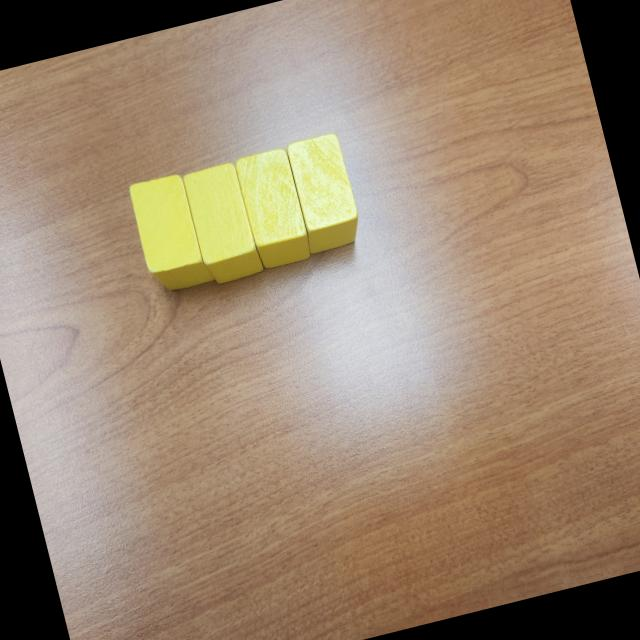yellow: (127, 171, 215, 296), (180, 159, 265, 286), (280, 130, 365, 254), (232, 145, 314, 271)
